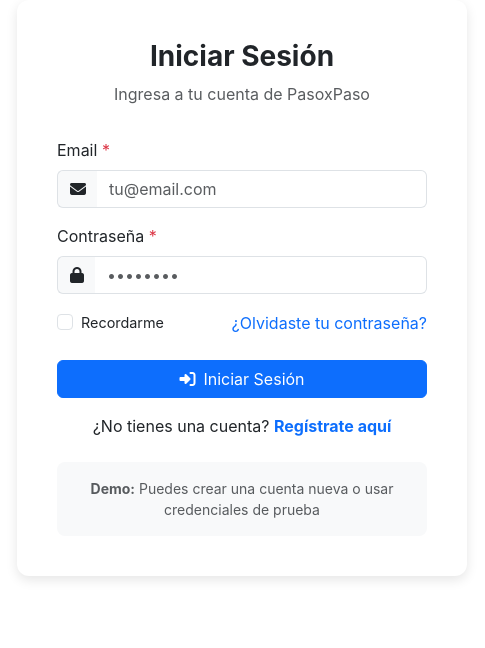
Scenario: LoginForm Component › should show validation errors for empty fields
Click the button "Iniciar Sesión".
click(242, 379)  # box [57,360,427,398]
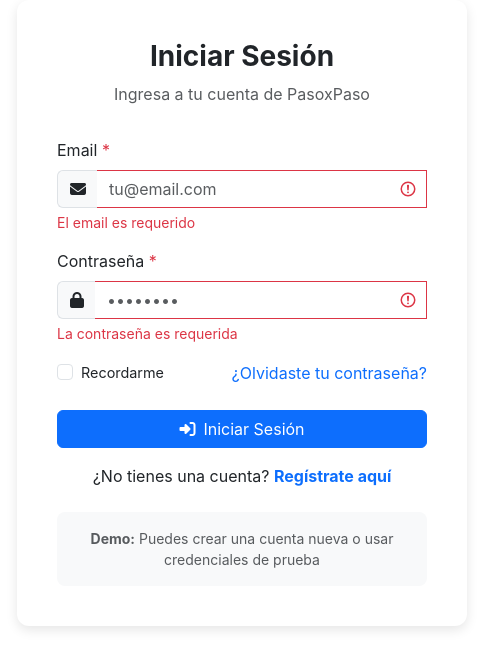
Result: the text "El email es requerido" is shown at [57,214,195,231]
Result: the text "La contraseña es requerida" is shown at [57,325,238,342]
